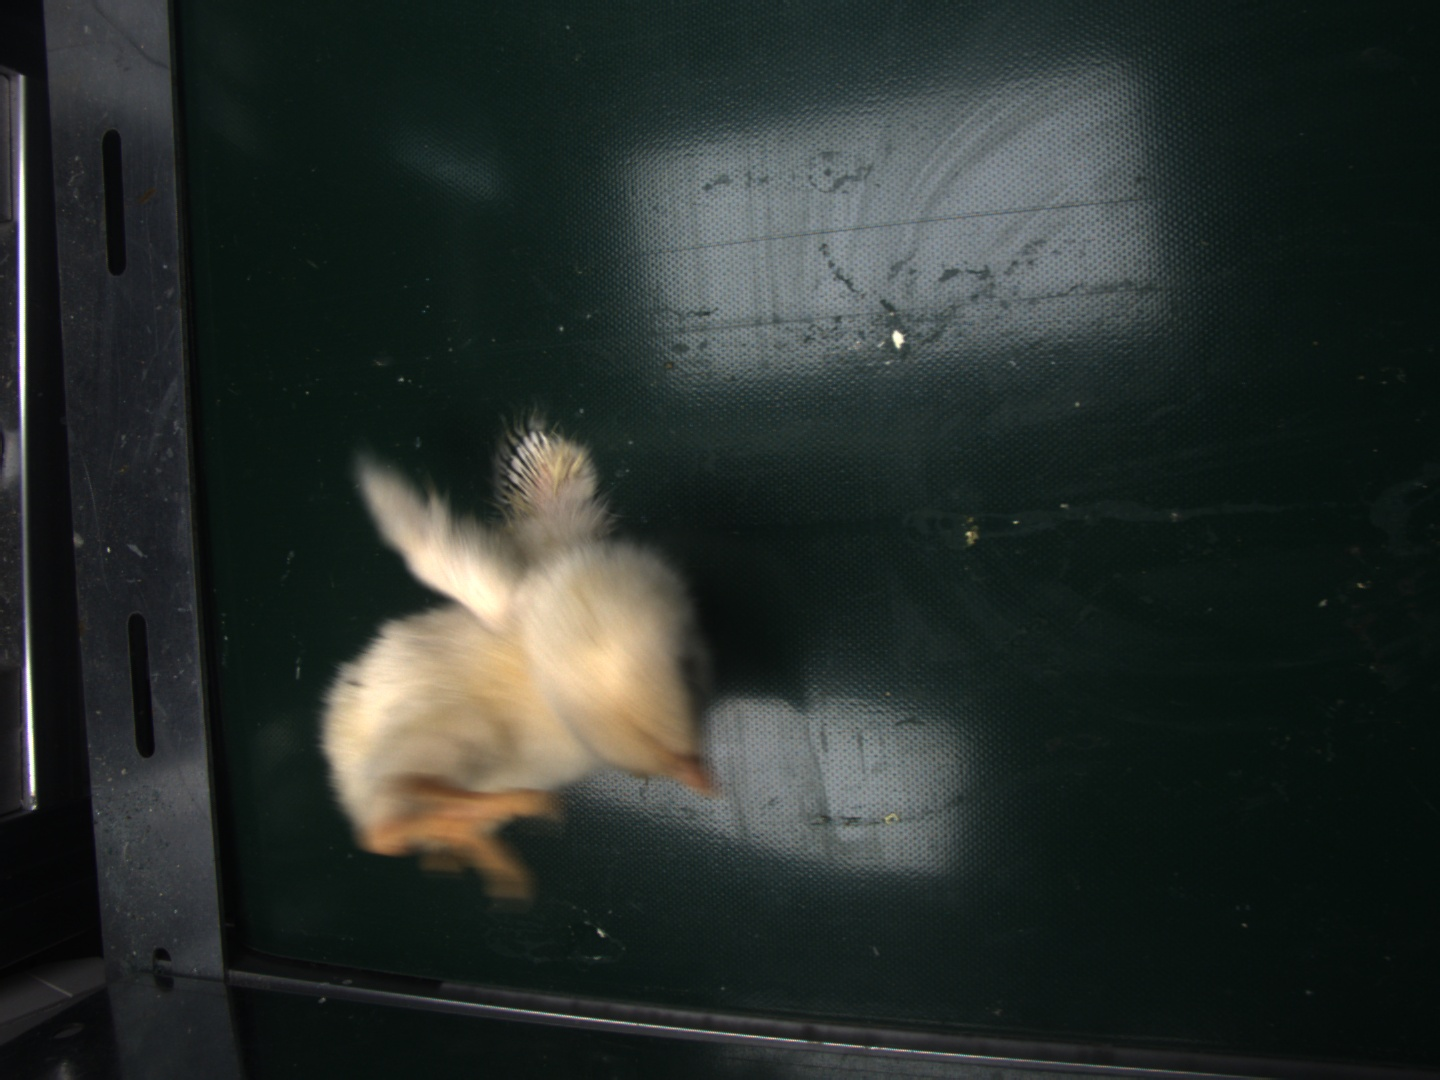male: (505, 425, 550, 506)
